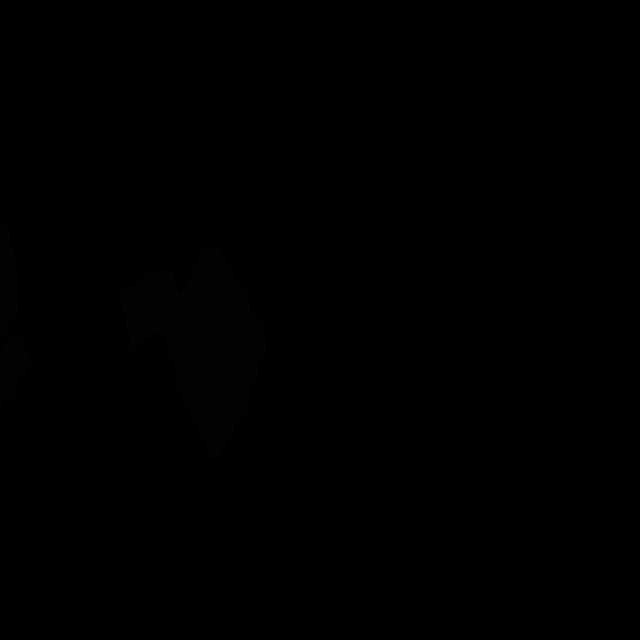cardboard: (117, 246, 268, 460), (0, 337, 32, 413), (0, 225, 21, 337)
